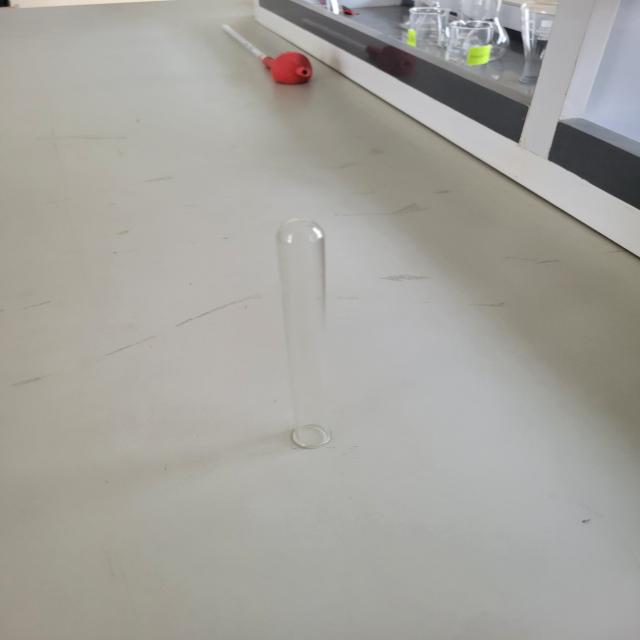Test_Tube: (223, 181, 348, 508)
Volumetric_Pipet: (201, 4, 333, 112)
